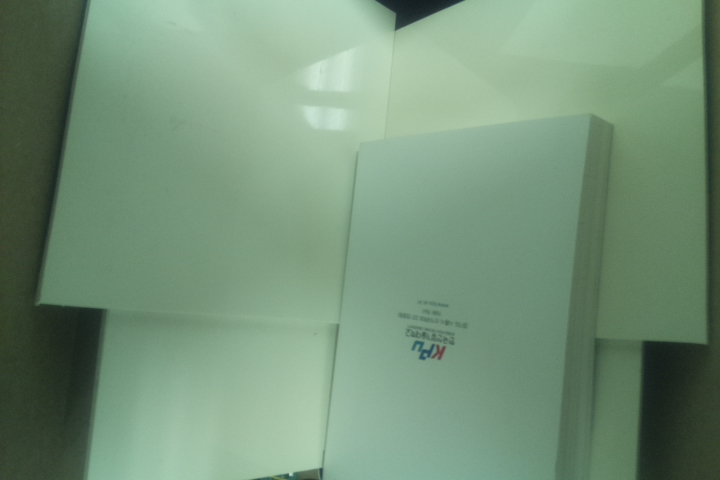book: (315, 113, 615, 480)
